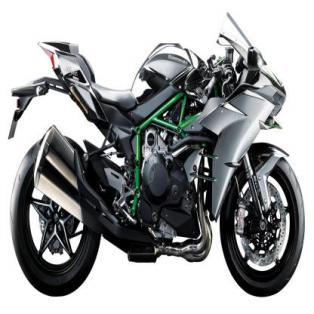Motocicleta: (7, 20, 309, 299)
